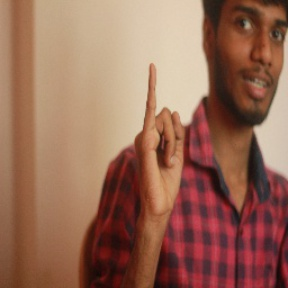I: (134, 61, 190, 204)
